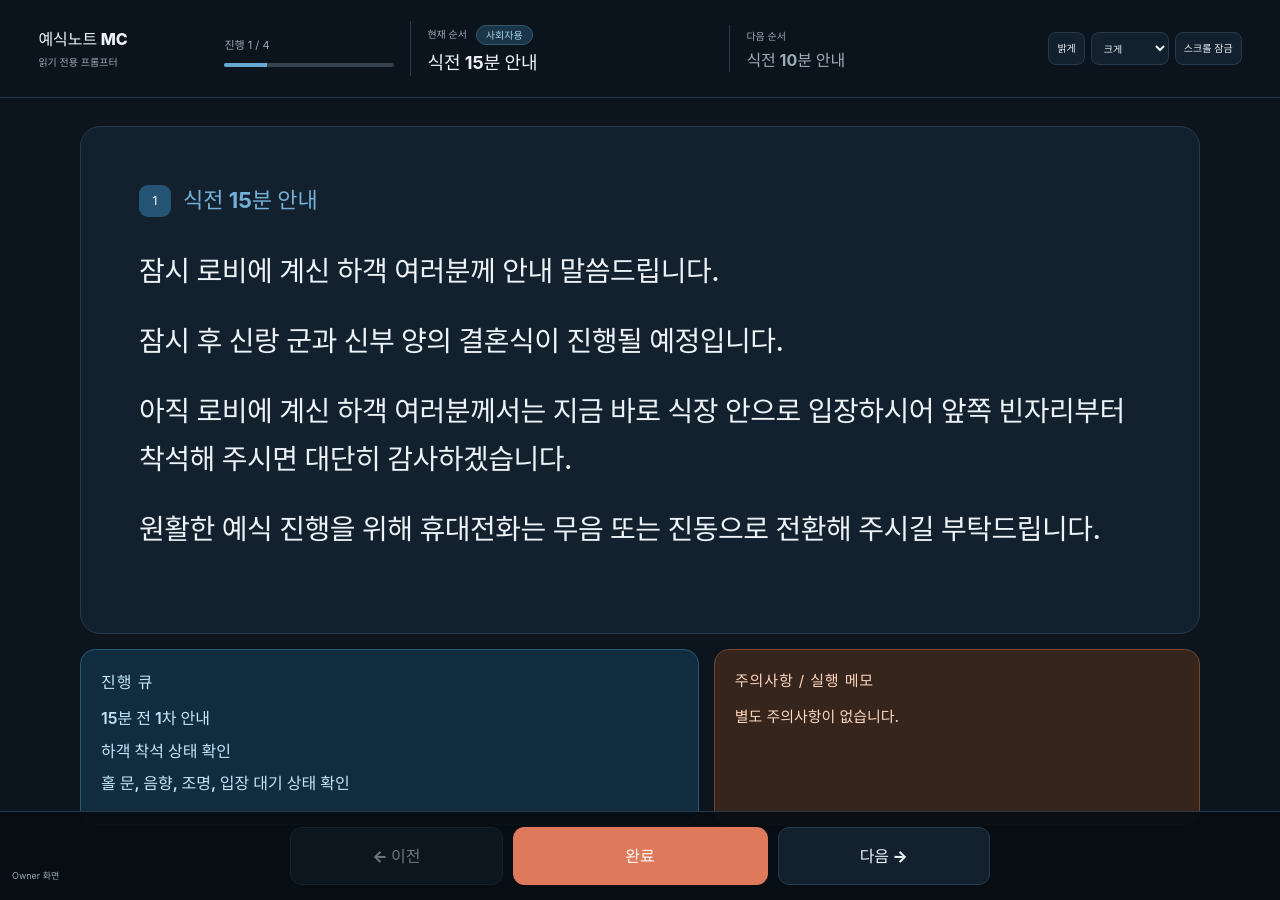
Test: MC Projection 동기화 › 직접 수정 대본과 Cue·Note를 보존하고 내부 정책 경고는 MC에 표시하지 않는다
The width and height of the screenshot is (1280, 900).
Click the button "다음 →": {"x": 884, "y": 856} [778,827,990,885]
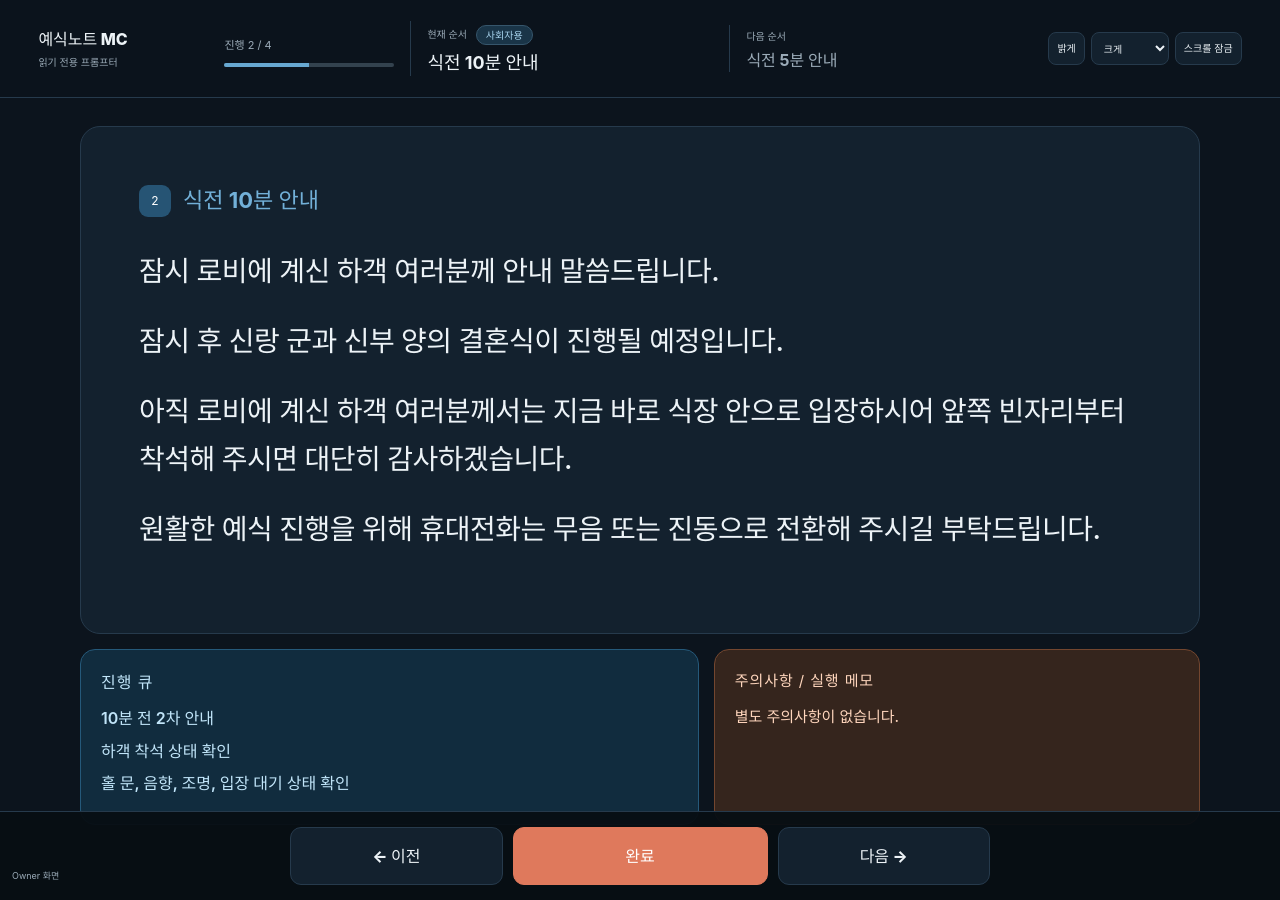
Click the button "다음 →": {"x": 884, "y": 856} [778,827,990,885]
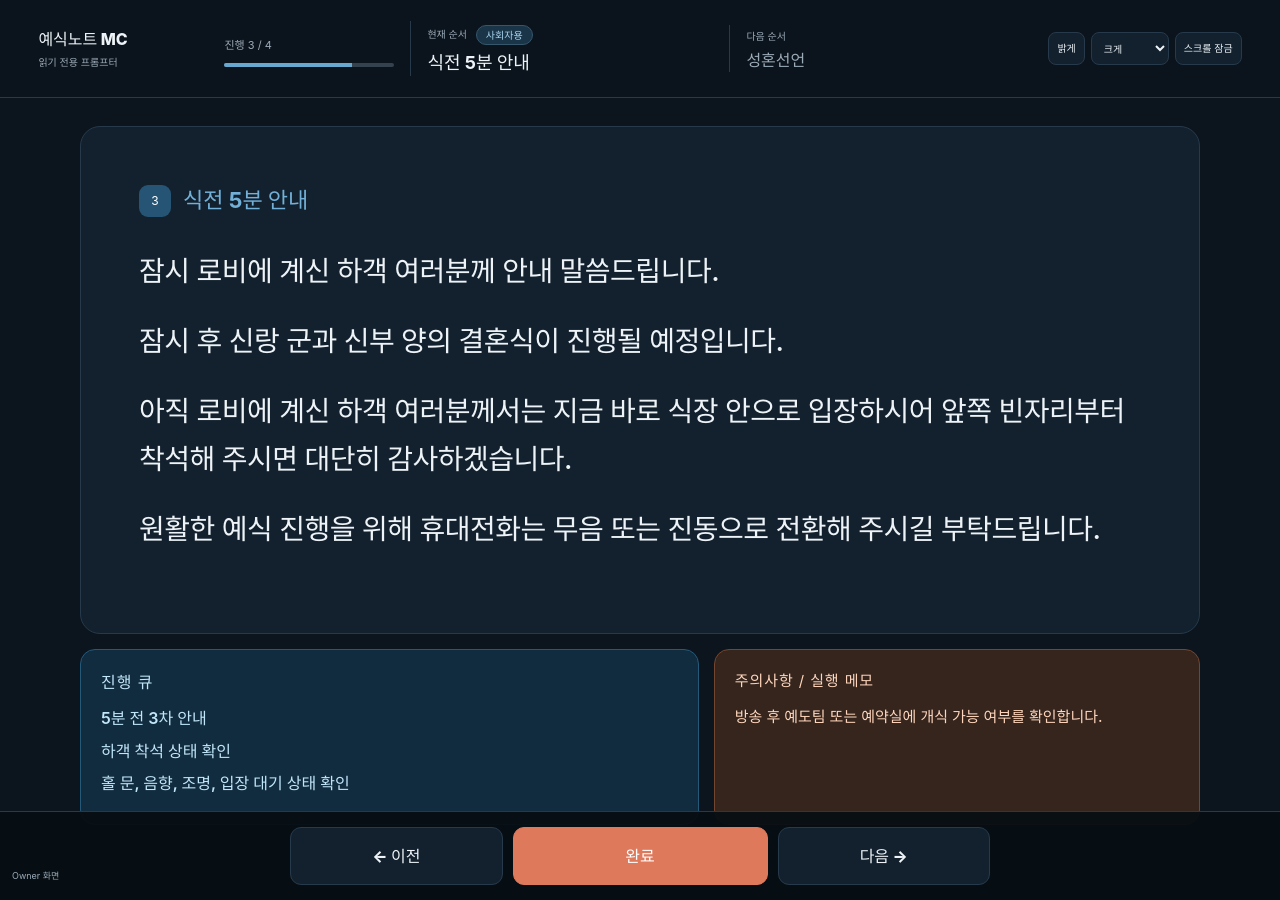
Click the button "다음 →": {"x": 884, "y": 856} [778,827,990,885]
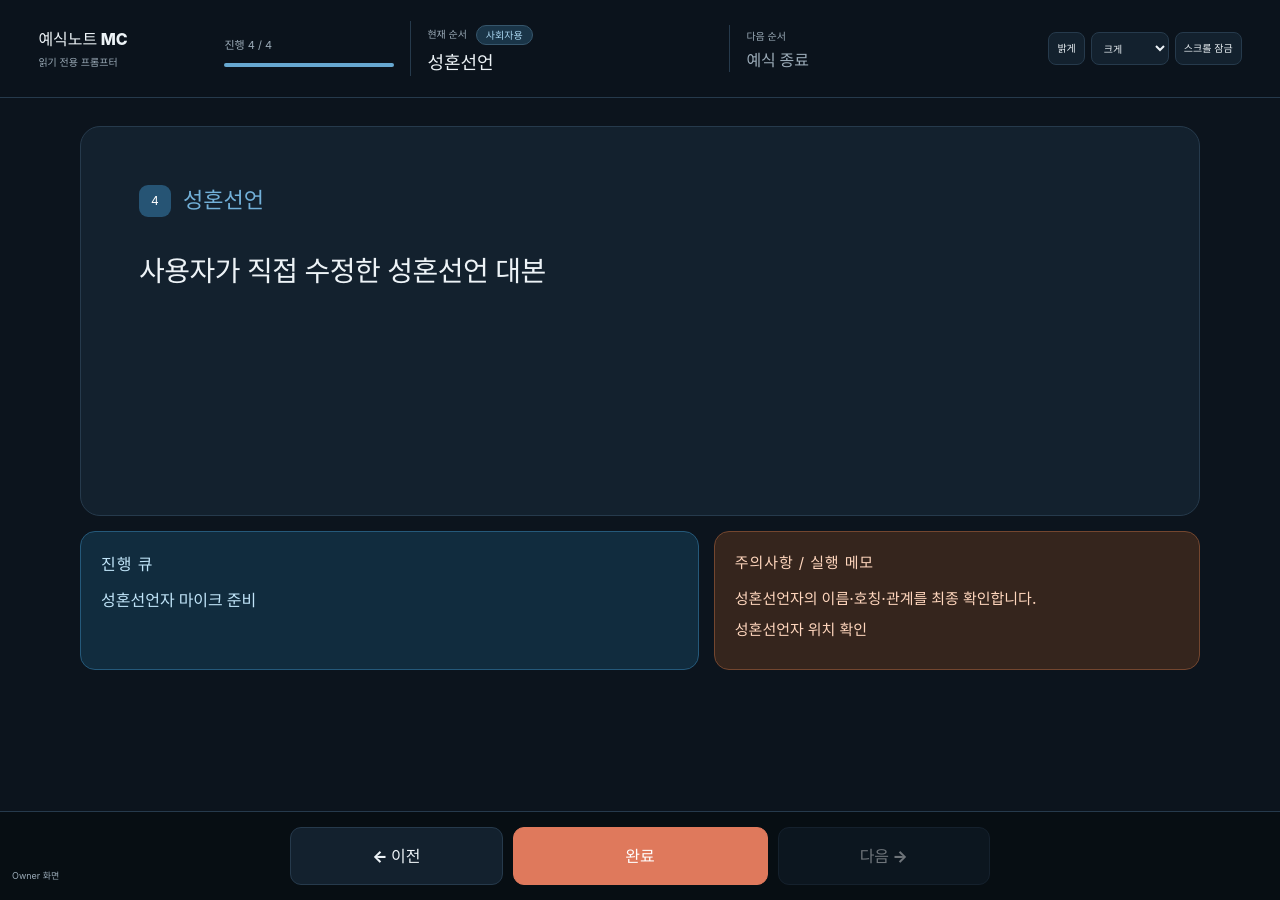
expect the text "사용자가 직접 수정한 성혼선언 대본" is shown: met, box [139,254,546,288]
expect the list item "성혼선언자 마이크 준비" is shown: met, box [101,590,256,610]
expect the list item "성혼선언자 위치 확인" is shown: met, box [735,620,867,638]
